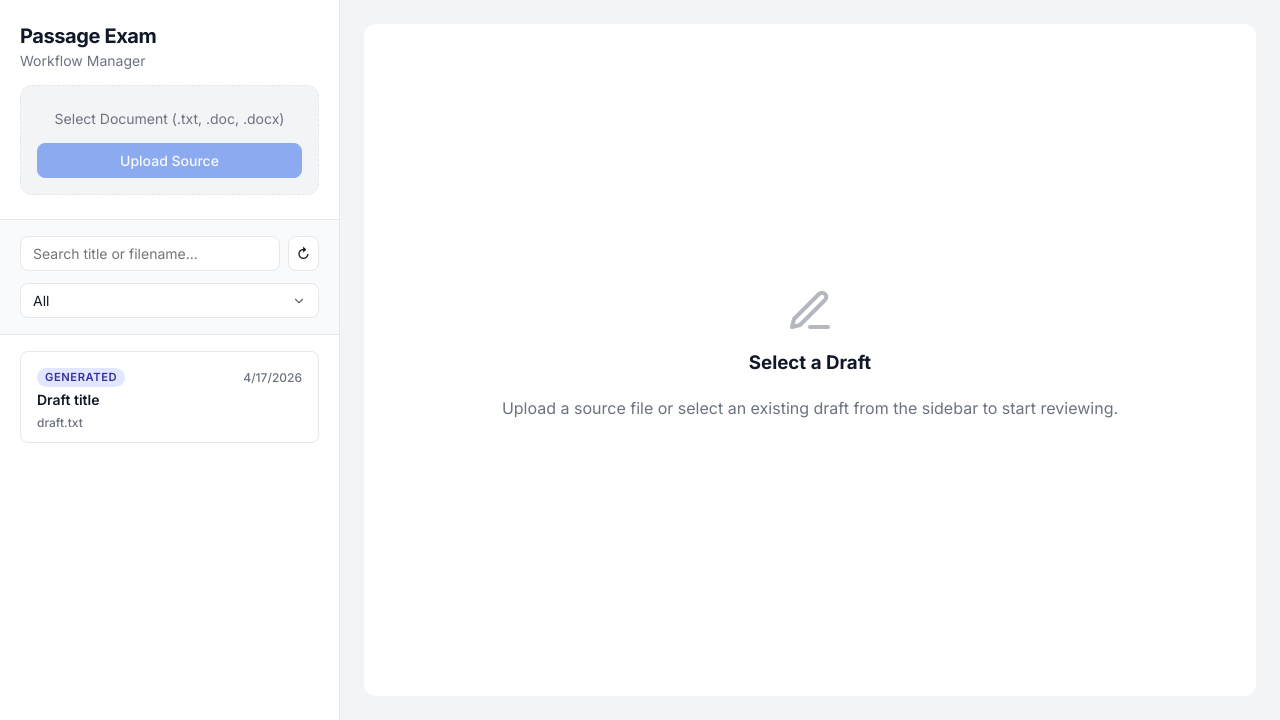
Test: App validation flow › clears the previous error after a later validation passes
Click the button "generated 4/17/2026 Draft title draft.txt" at [81, 377], box [20,351,319,443]
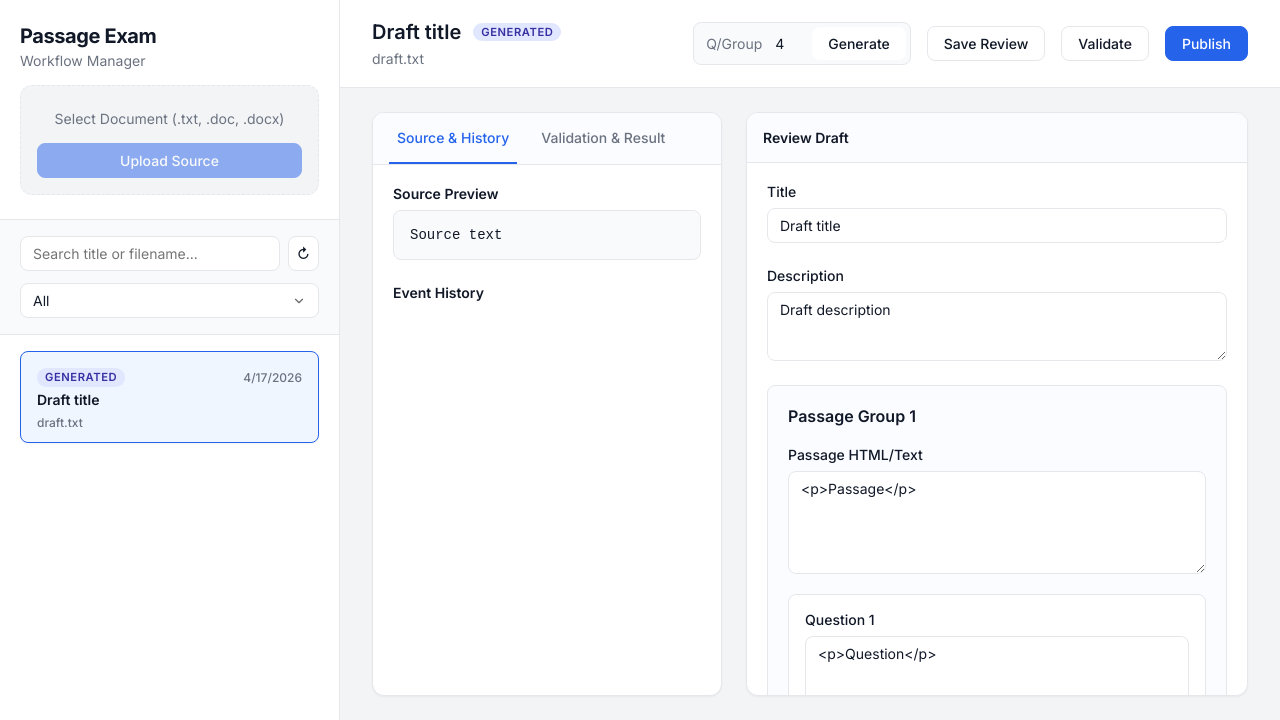
Clear the field showing "Draft title" at [997, 225], box [767,208,1227,243]
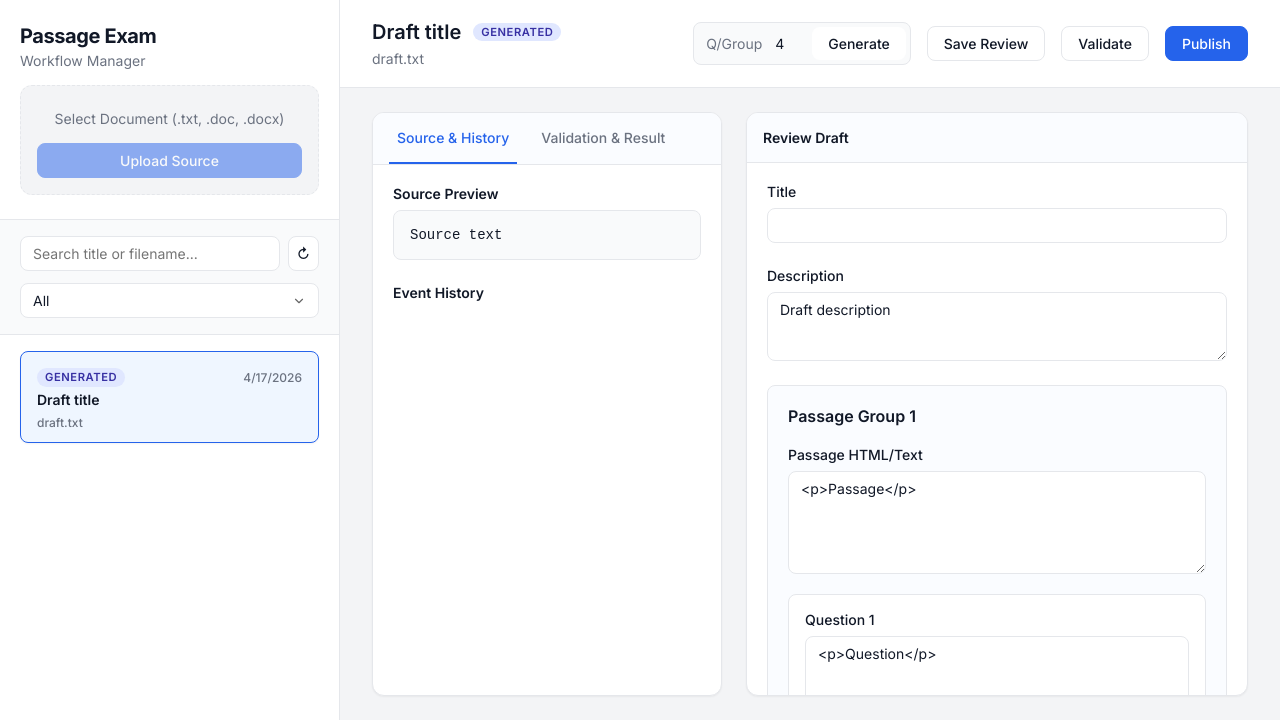
Click the button "Validate" at [1105, 43], box [1061,26,1149,61]
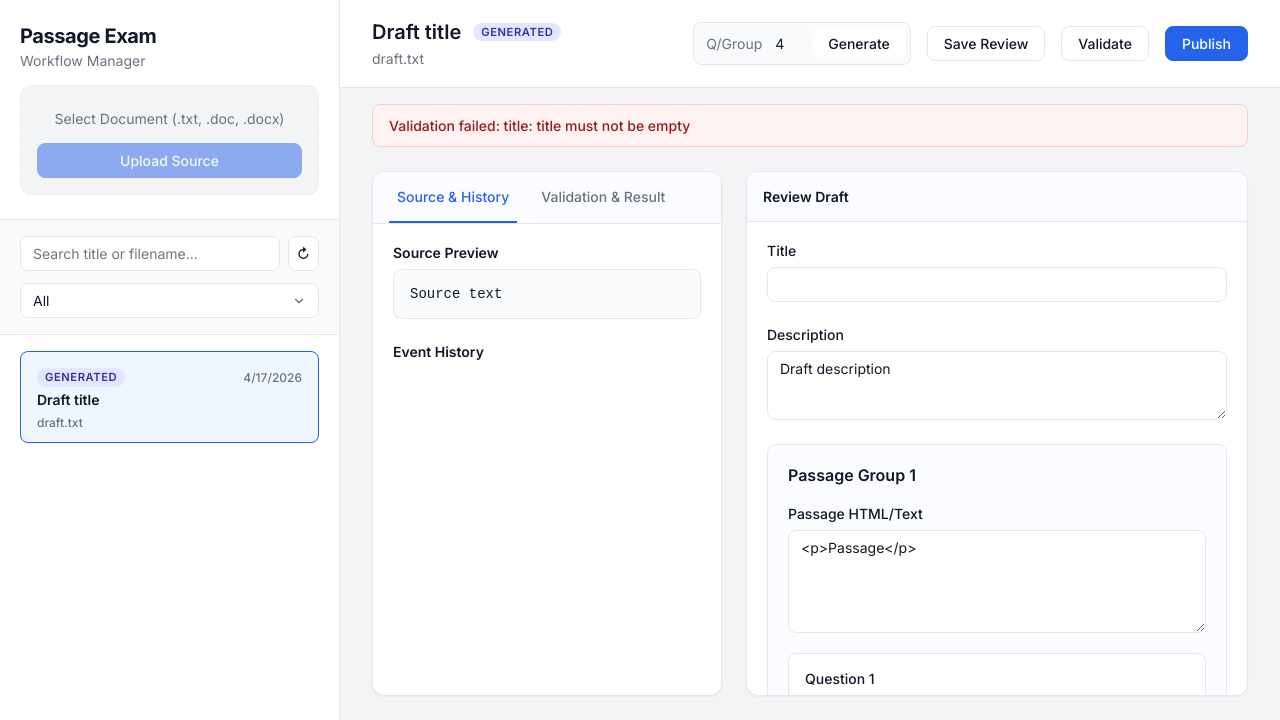
Check: the text "Validation failed: title: title must not be empty" is shown, box [372,104,1248,147]
Type "Recovered title" into the field showing "Draft title" at [997, 284], box [767,267,1227,302]
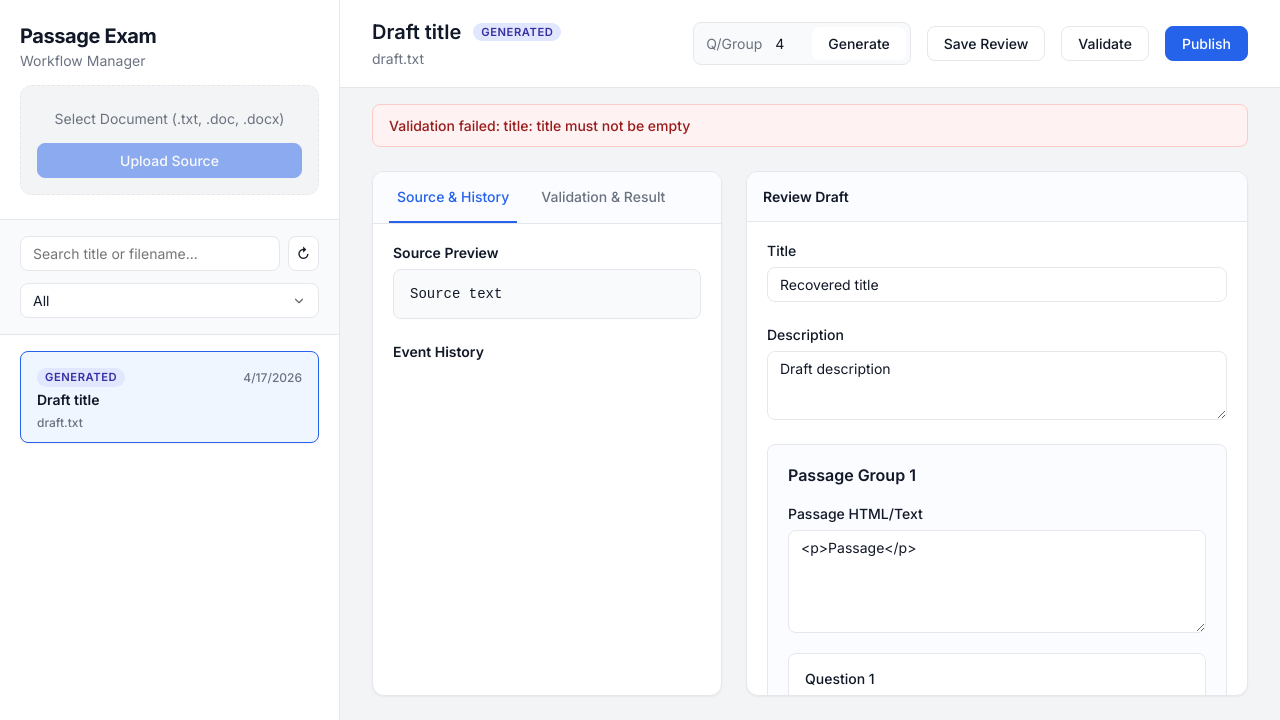
Click the button "Validate" at [1105, 43], box [1061,26,1149,61]
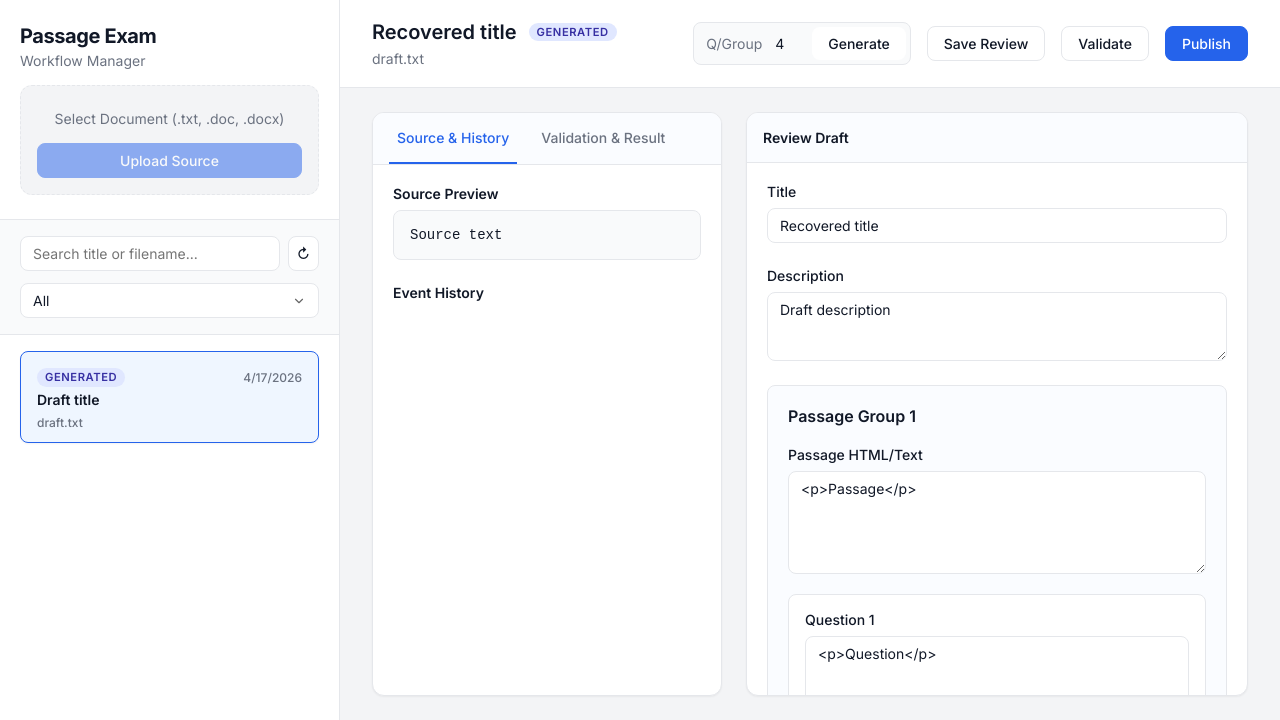
Check: the text "Validation failed: title: title must not be empty" is gone
